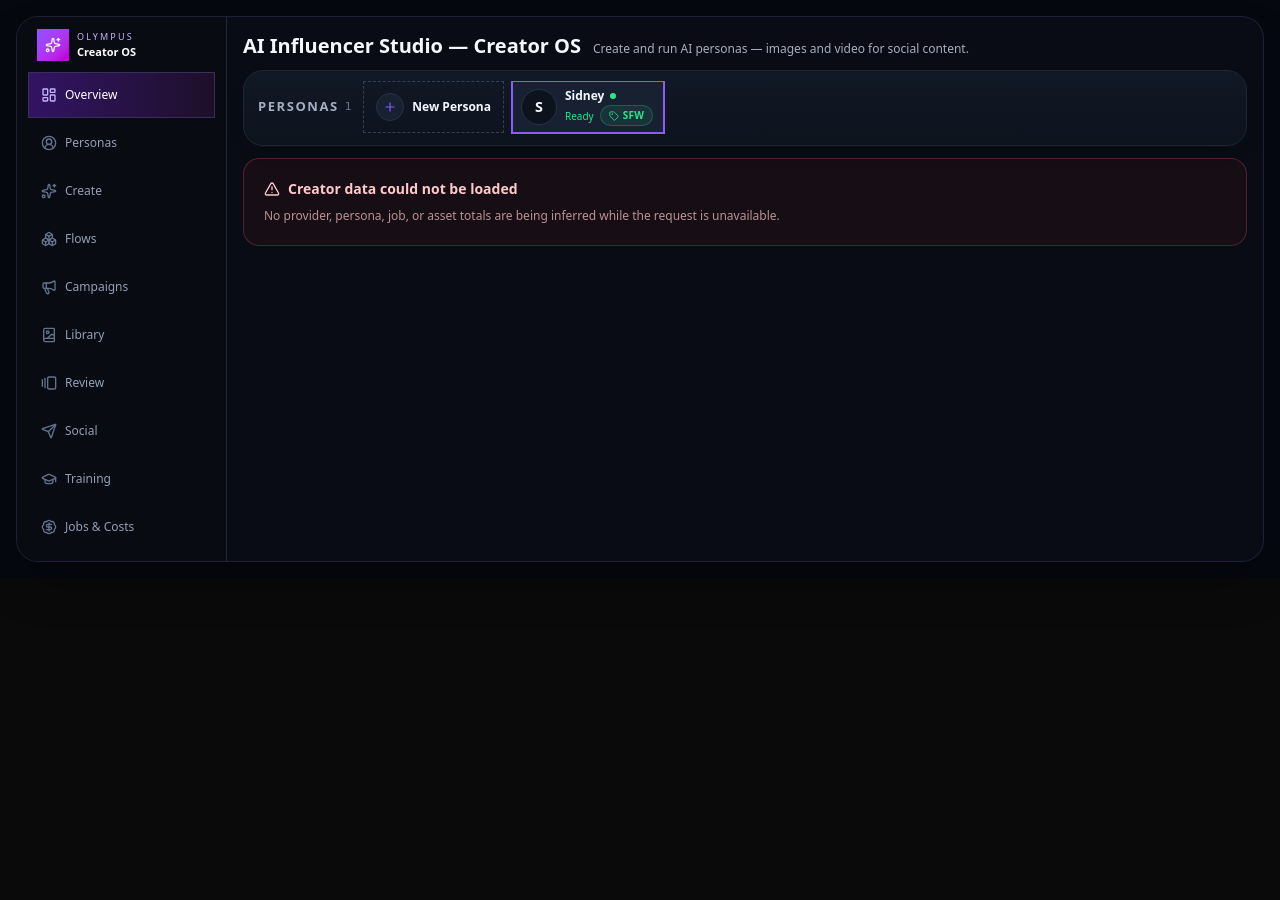
Image Studio focused UI repairs › keeps provider, job, and gallery query failures distinct from zero-data states
Expected: the element with test id "creator-overview-error" is shown, [243,158,1247,246]
Click the button with test id "creator-nav-training".
click(122, 479)  # box [29,457,214,501]
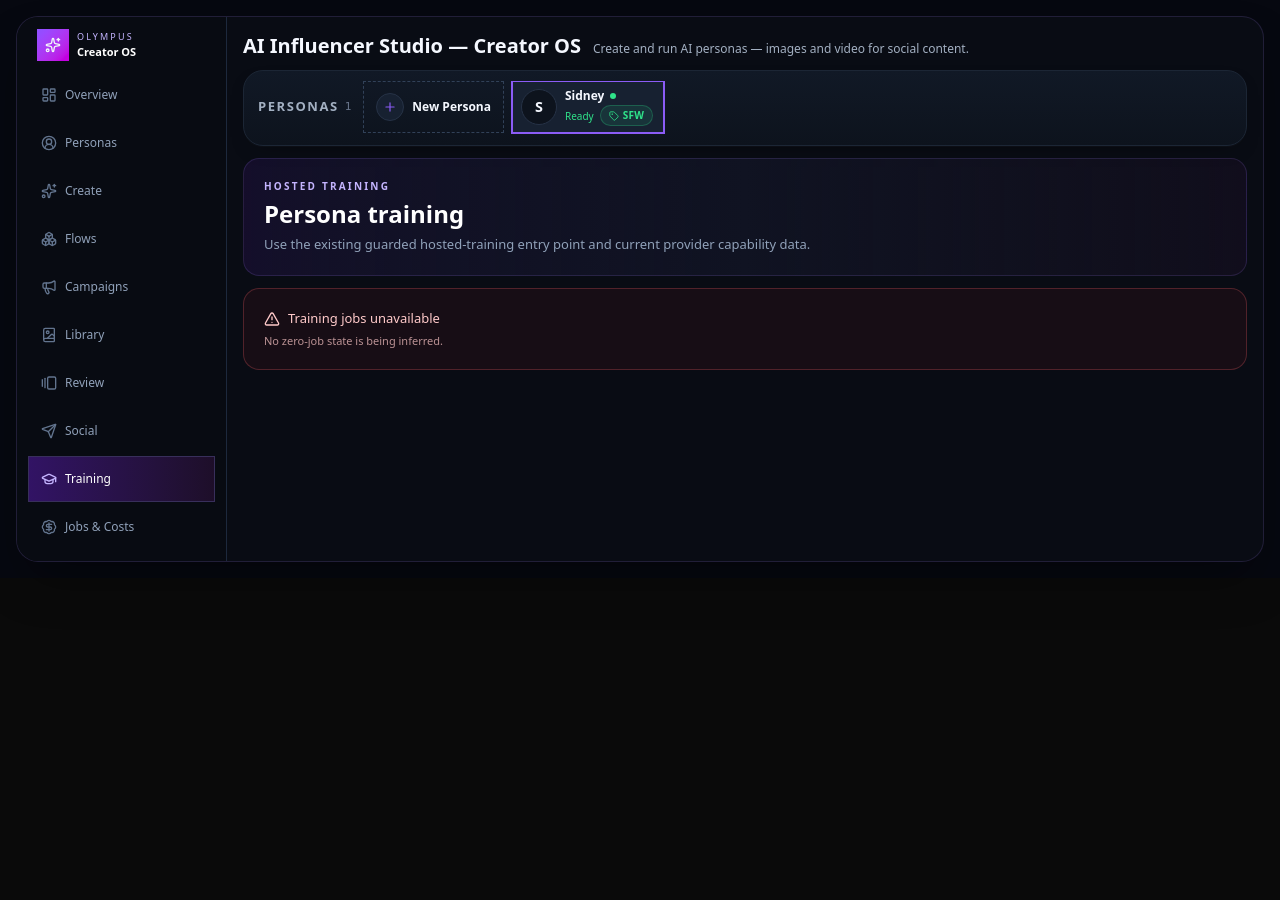
Expected: the element with test id "training-jobs-error" is shown, [243,288,1247,370]
Click the button with test id "creator-nav-jobs".
click(122, 527)  # box [29,505,214,549]
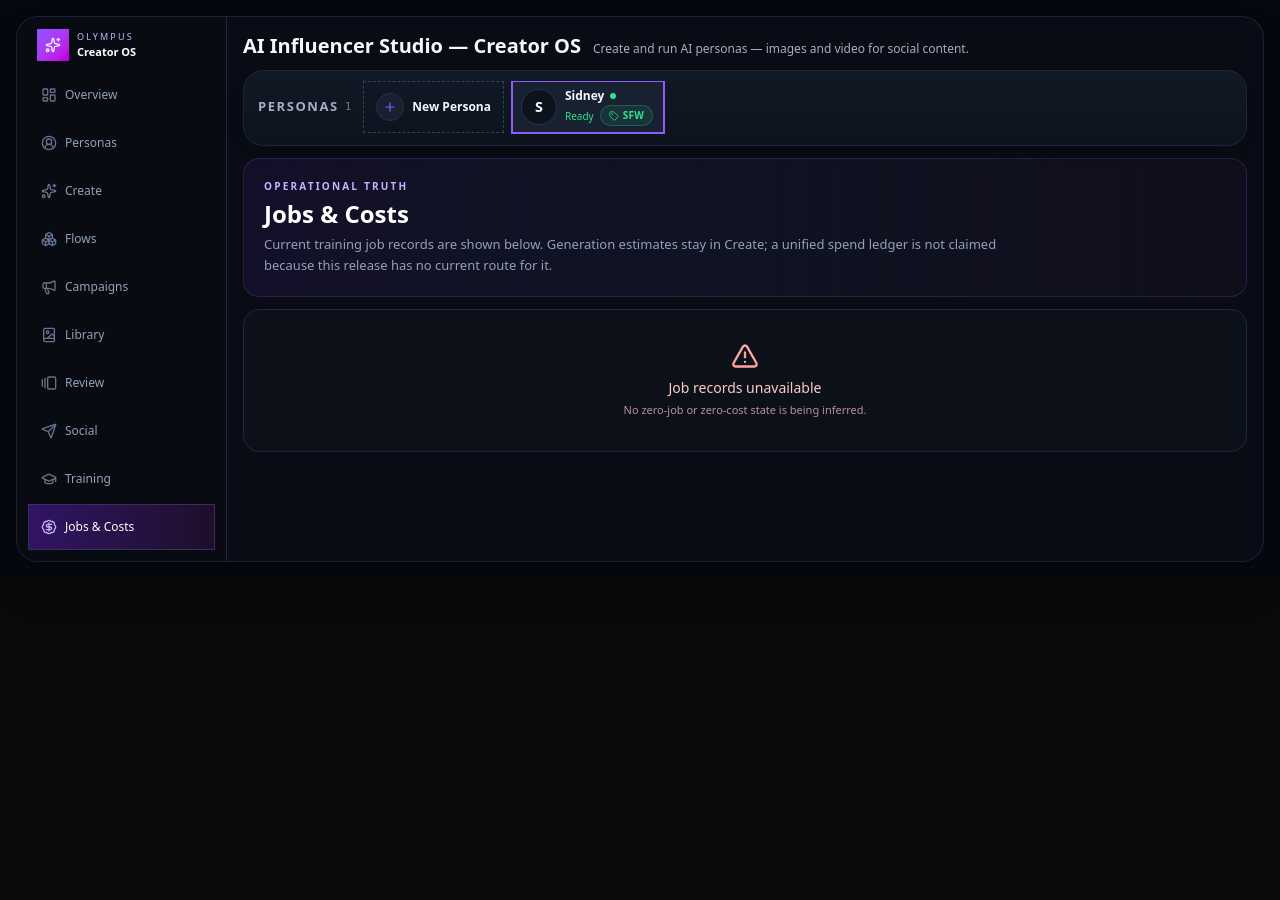
Expected: the element with test id "jobs-error" is shown, [624,342,866,417]
Click the button with test id "creator-nav-library".
click(122, 335)  # box [29,313,214,357]
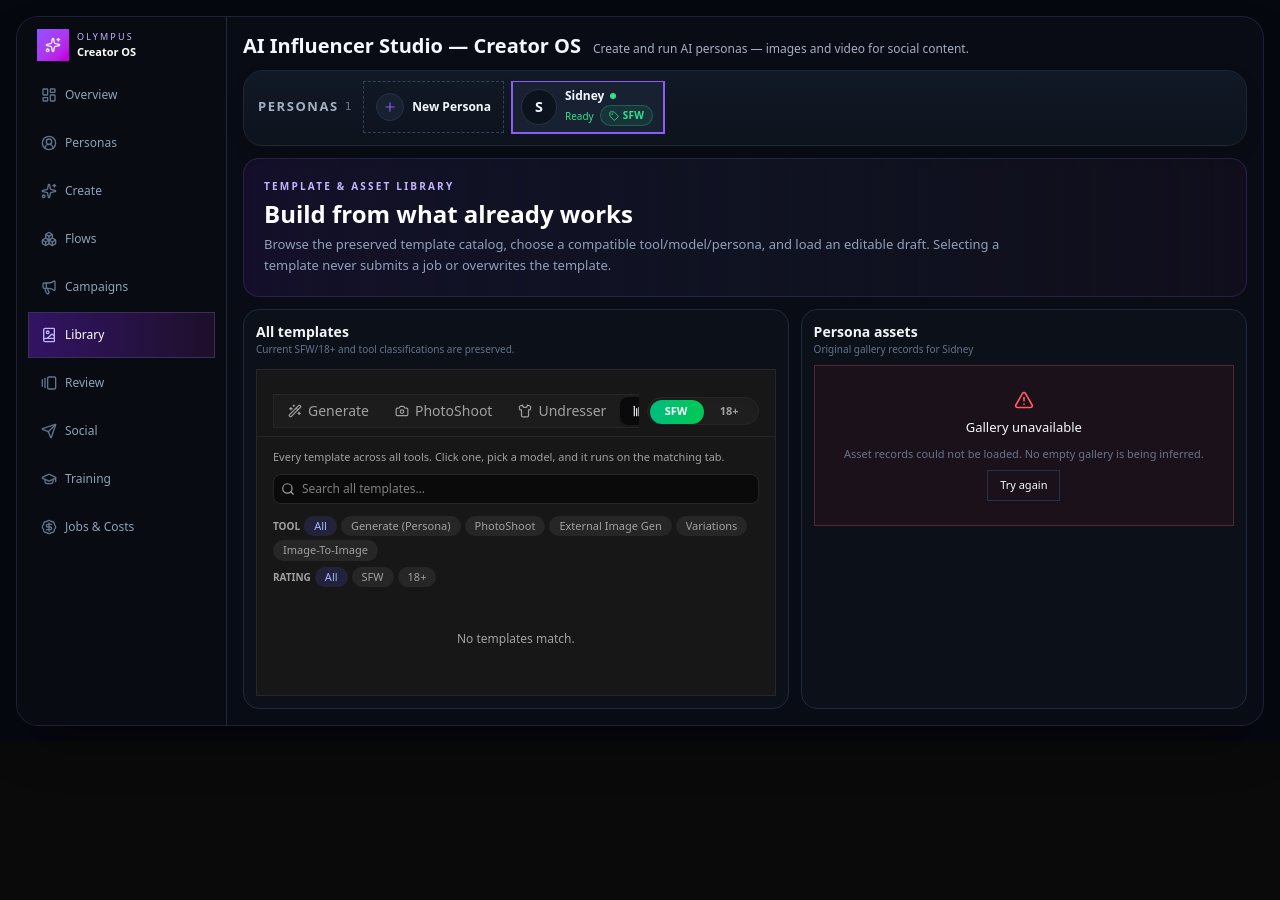
Expected: the element with test id "gallery-error" is shown, [814,365,1234,526]
